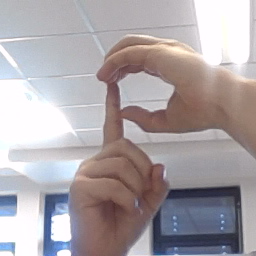P: (62, 31, 208, 232)
